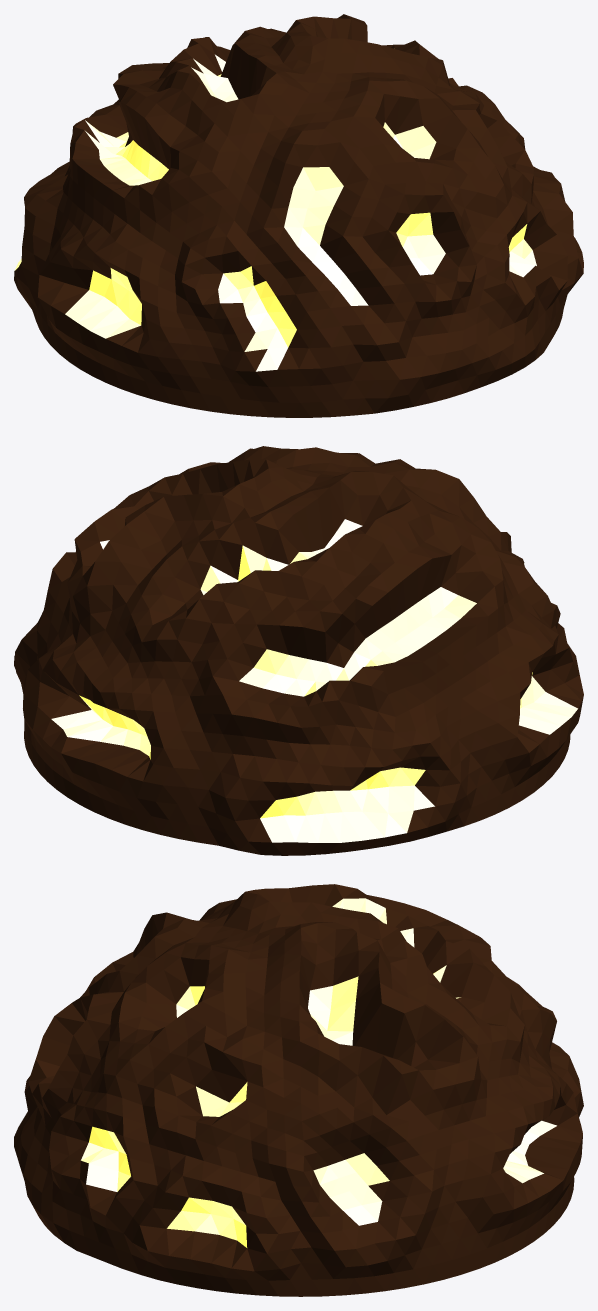
File: Coras_V1.fbx
3 views of the same model, one above another, from view 1: azimuth 30°, elevation 25°; view 2: azimuth 150°, elevation 25°; view 3: azimuth 270°, elevation 25° (orthographic). The views are drawn at different scales.
Parts seen in each view (by area): view 1: Icosphere; view 2: Icosphere; view 3: Icosphere.
Part boxes in pixels (left/top/right/bottom): Icosphere: left=14, top=14, right=583, bottom=417; Icosphere: left=14, top=446, right=583, bottom=855; Icosphere: left=14, top=884, right=583, bottom=1296.
Size of the model in its own units: 214 by 109 by 208.
